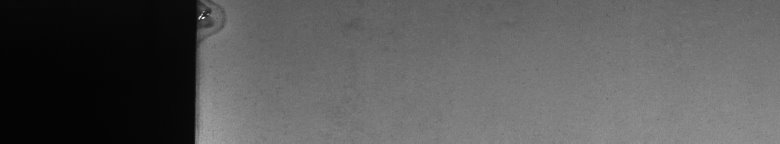hb: (208, 4, 230, 42)
